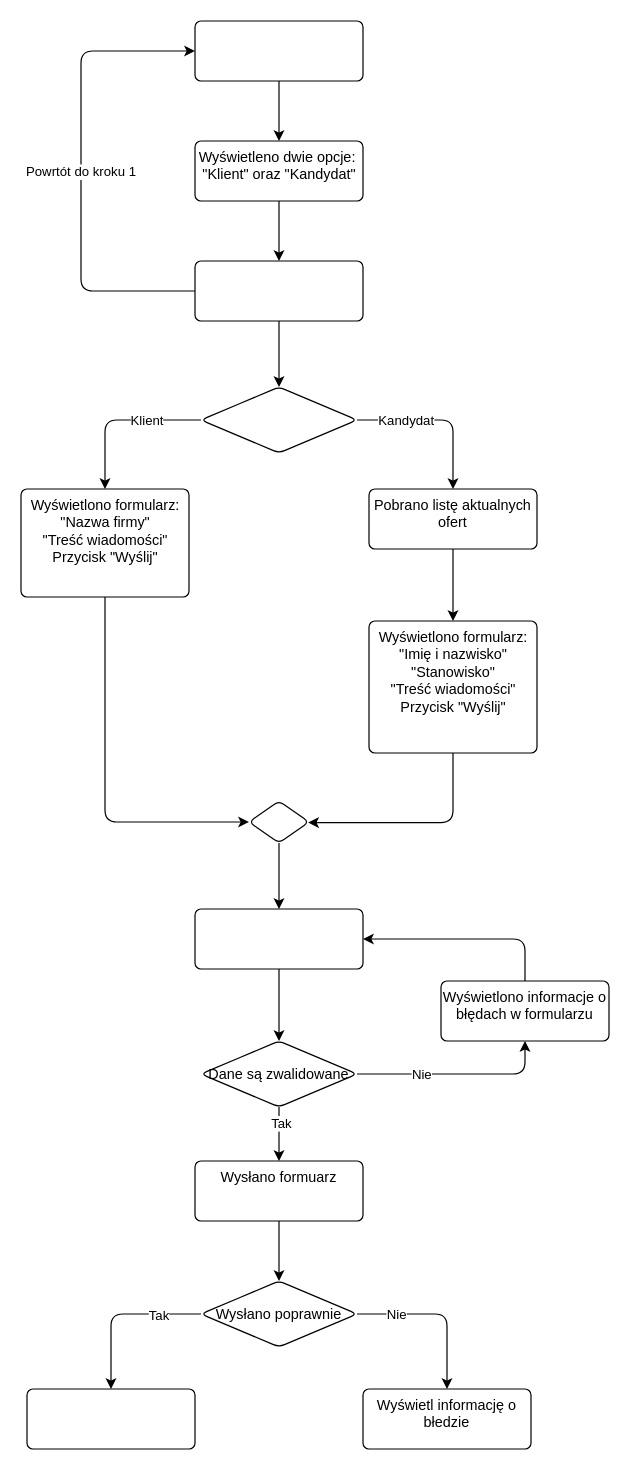
This 630x1470 diagram has some shape labels left out. The shapes that lost their labels are listed below. From the top down, each one's box as (x1, y1, x2, y2) in pixels, then its label:
(194, 20, 363, 81): Wyświetlono krok 1
(194, 260, 363, 321): Wyświetlono krok 2
(200, 386, 357, 453): Wybrana opcja
(194, 908, 363, 969): Kliknięto przycisk "Wyślij"
(26, 1388, 195, 1449): Wyświetl podziękowanie
